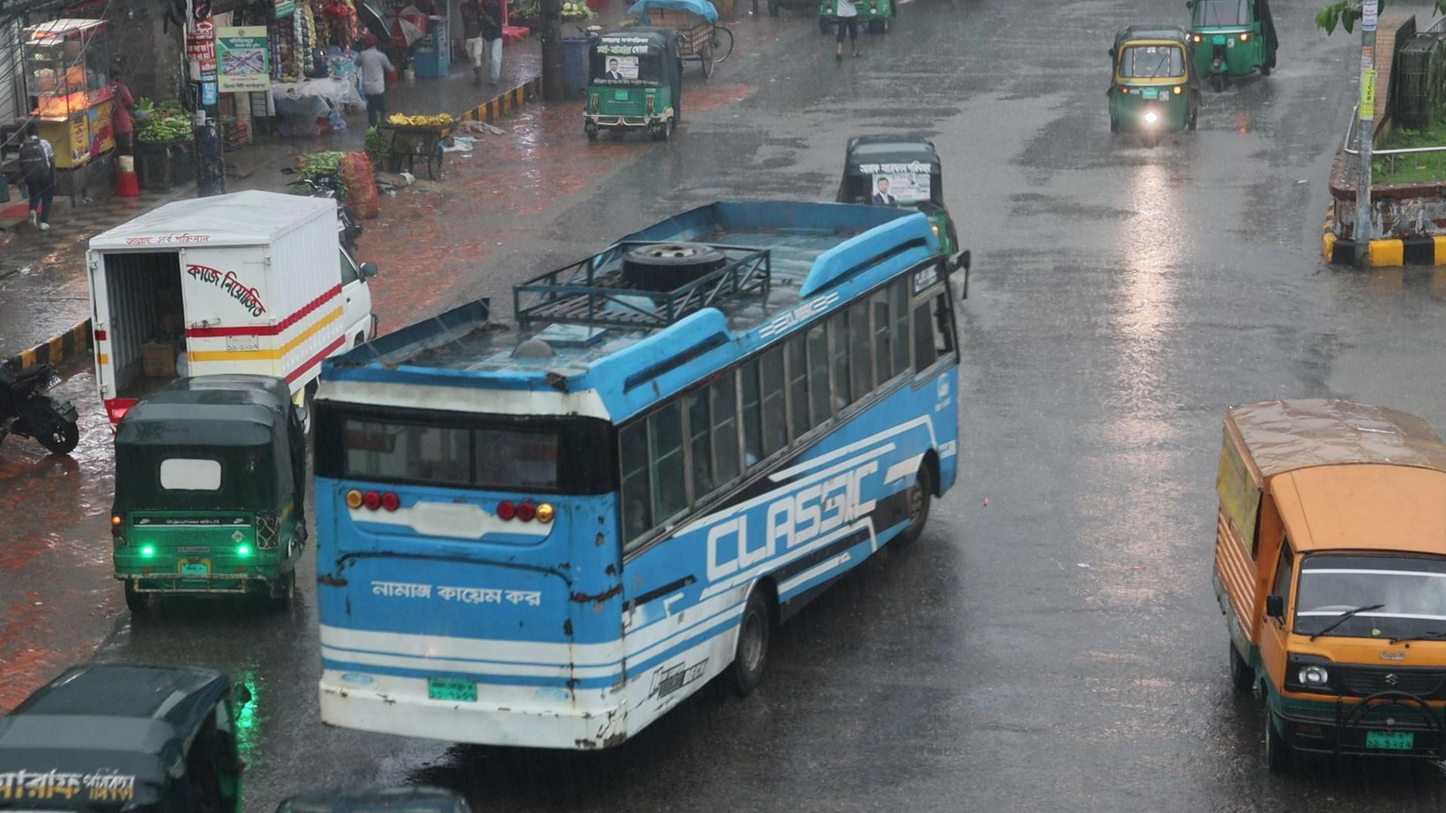Bus: (301, 185, 962, 758)
Truck: (1200, 390, 1446, 775)
